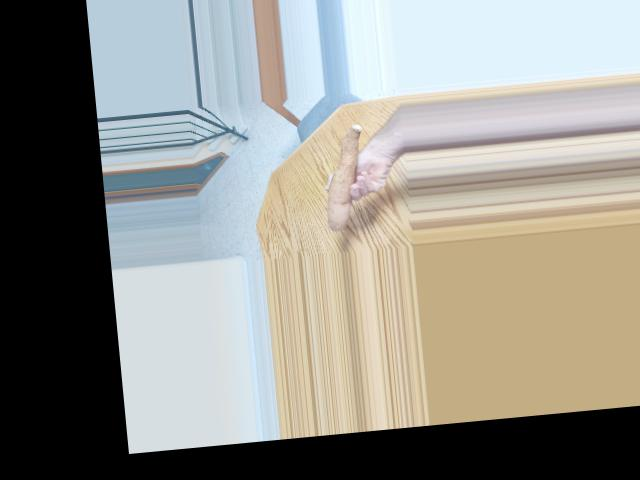sweet_potato: (313, 123, 380, 227)
